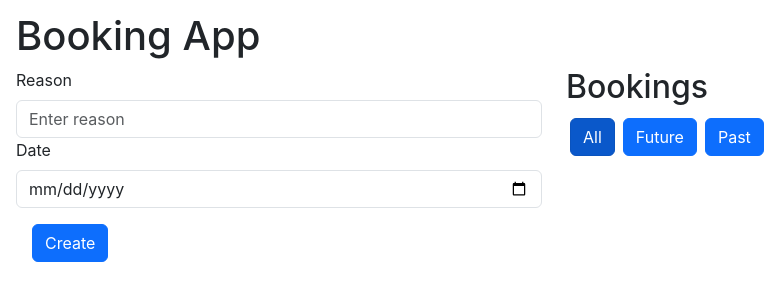
Test case: Home component › displays validation error if date is missing
The image size is (781, 304).
Step 1. Click the button "Create" → (70, 243), box [32, 224, 108, 262]
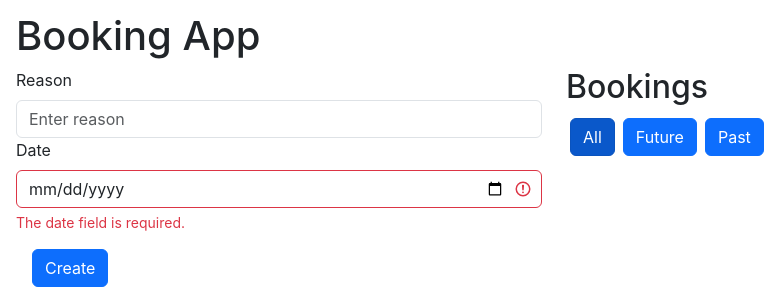
Expected: the button "Create" is shown, [32, 249, 108, 287]
Now the text "The date field is required." is shown, box [16, 214, 185, 231]
